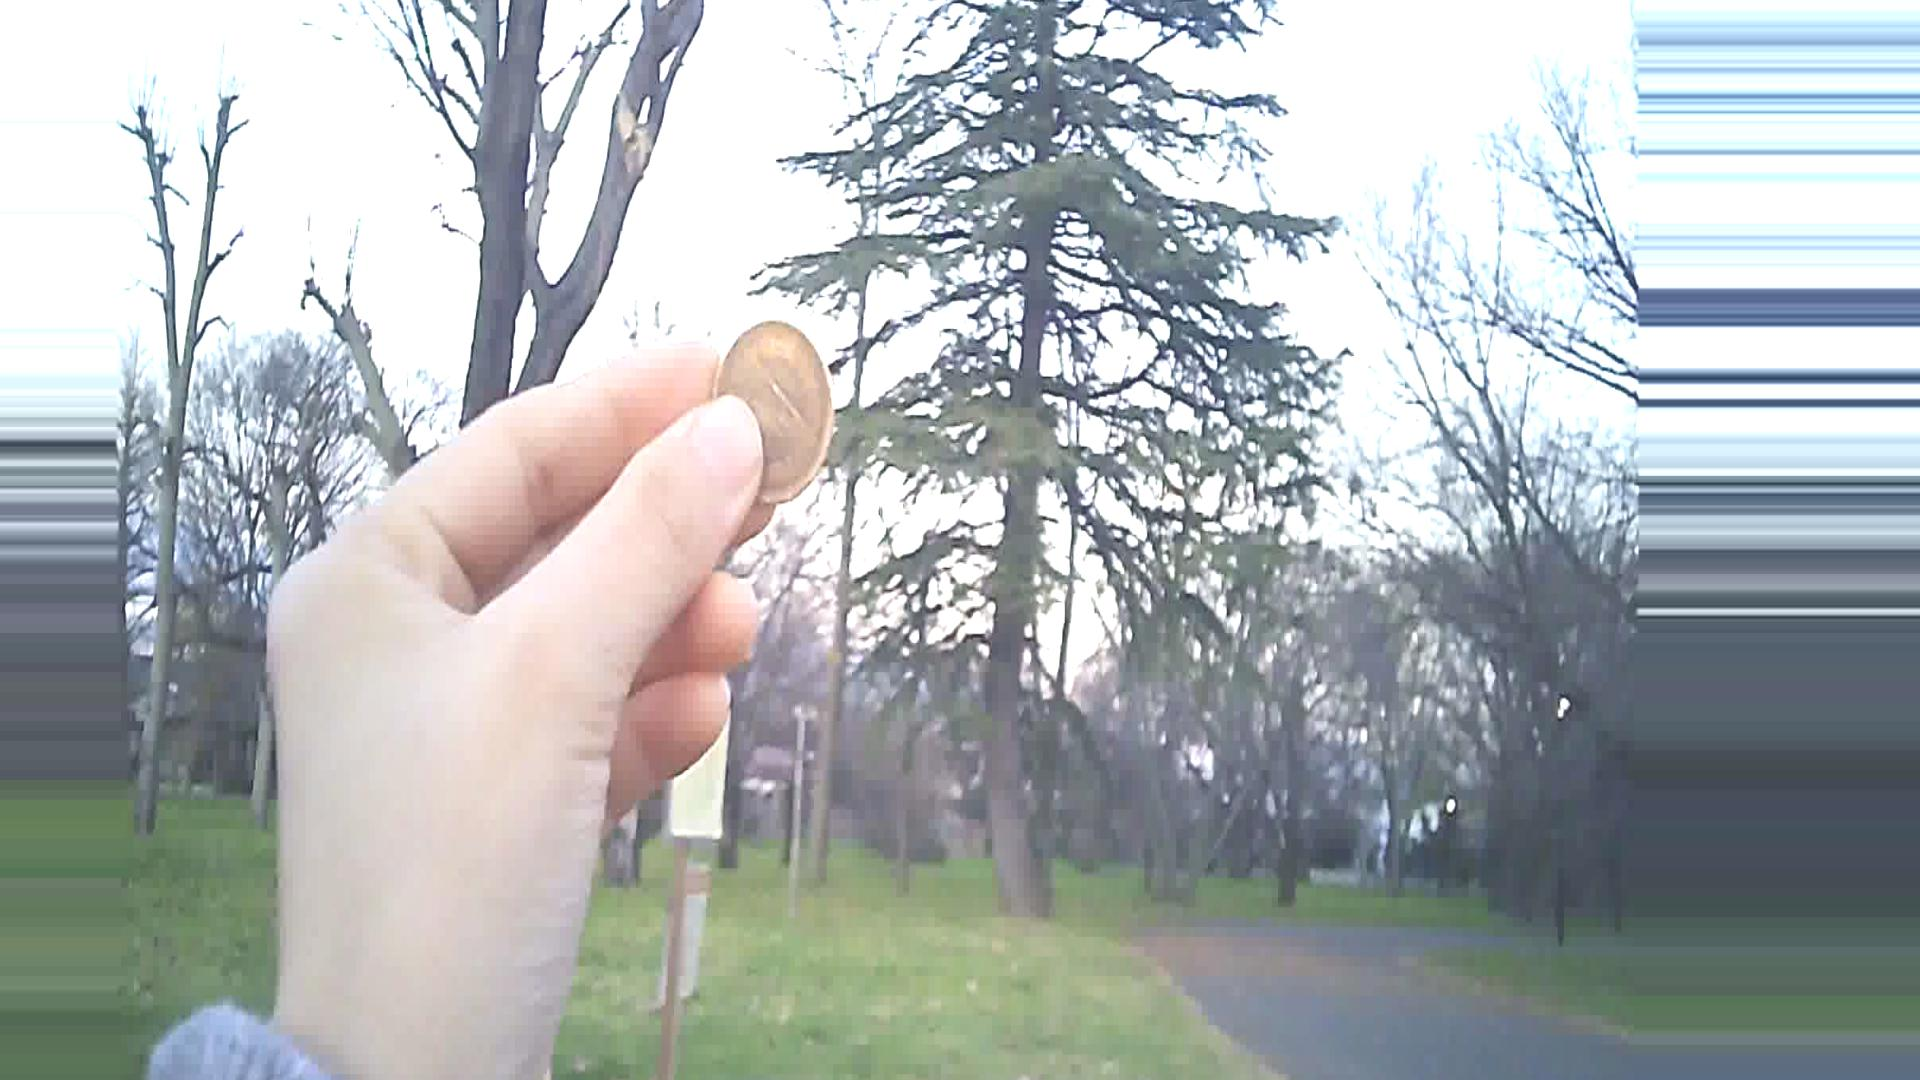10 Yen: (709, 319, 831, 512)
